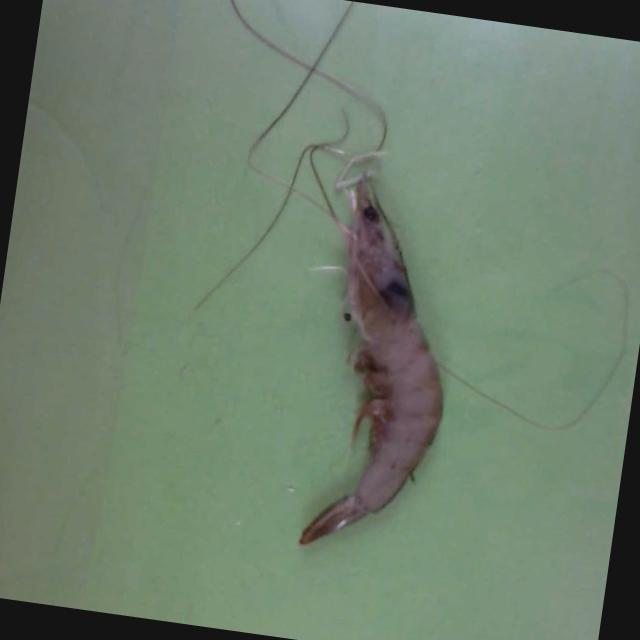shrimp: (298, 178, 441, 546)
